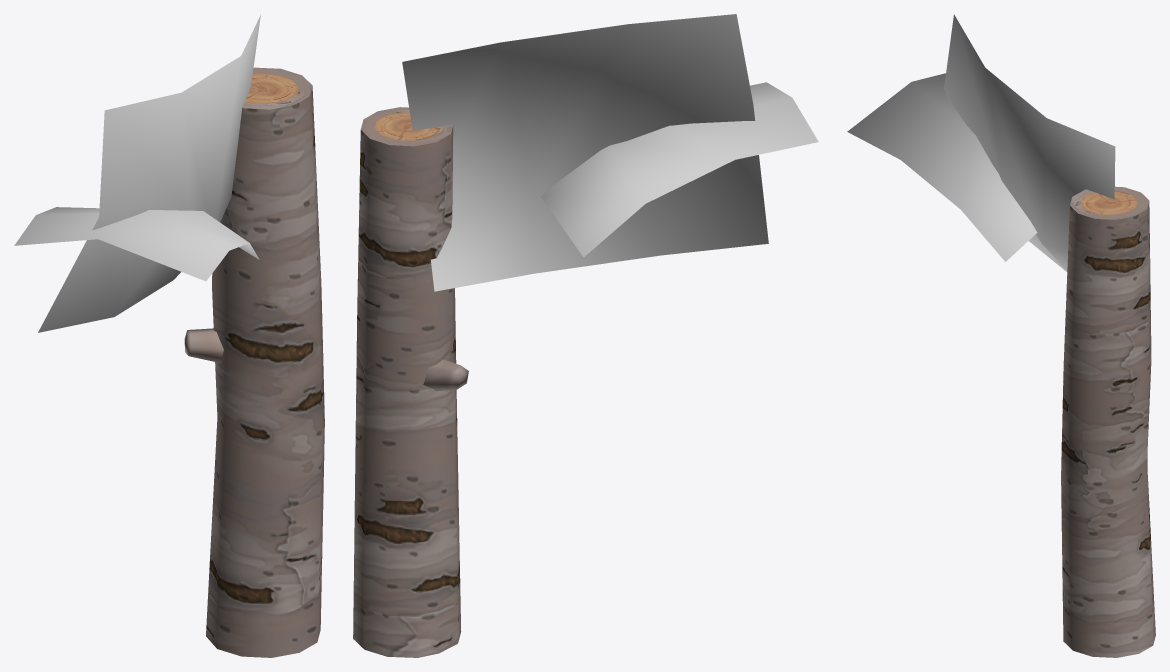
Rendered from obj_harvests_trees_birch03_p01.fbx.
3 views of the same model, side by side, from view 1: azimuth 30°, elevation 25°; view 2: azimuth 150°, elevation 25°; view 3: azimuth 270°, elevation 25° (orthographic). The views are drawn at different scales.
Parts seen in each view (by area): view 1: chunk01; view 2: chunk01; view 3: chunk01.
Boxes of the visible parts, x1,y1,x2,y2 form: chunk01: (14, 14, 324, 657); chunk01: (353, 14, 818, 657); chunk01: (847, 14, 1155, 657).
Bounding box in the file's own units: 6.07 × 9.65 × 5.14.
